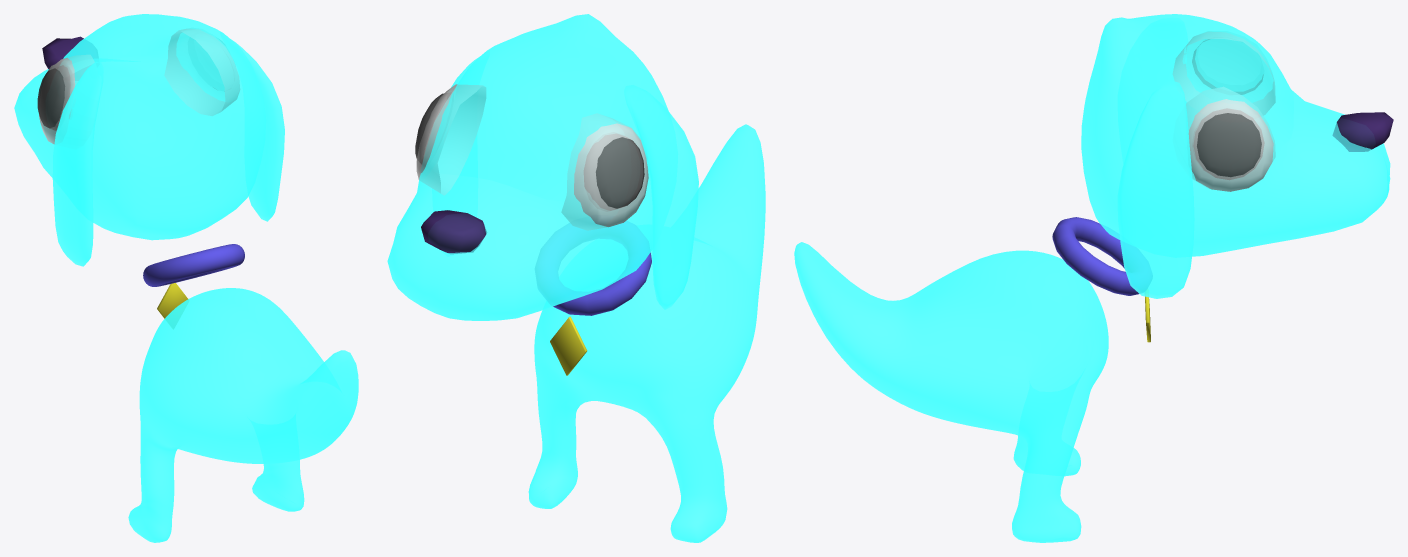
File: Nestor_neutral_pose.fbx
The picture shows the model from 3 angles, left to right: view 1: azimuth 30°, elevation 25°; view 2: azimuth 150°, elevation 25°; view 3: azimuth 270°, elevation 25°; orthographic projection. The views are drawn at different scales.
Parts seen in each view (by area): view 1: Roundcube; view 2: Roundcube; view 3: Roundcube.
Part boxes in pixels (x1,y1,x2,y2): Roundcube: (14, 14, 358, 542); Roundcube: (387, 14, 765, 542); Roundcube: (794, 14, 1393, 542).
Size of the model in its own units: 0.4514 by 1.07 by 0.9575.
